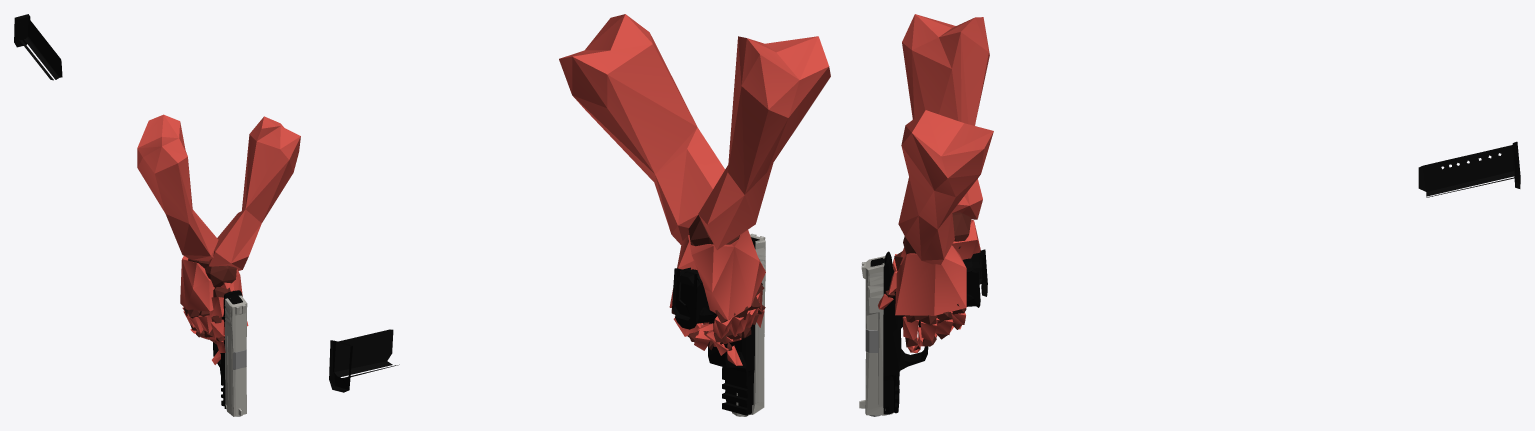
Rendered from M&P9reloadNormal1lowP_000148.obj.
3 views of the same model, side by side, from view 1: azimuth 30°, elevation 25°; view 2: azimuth 150°, elevation 25°; view 3: azimuth 270°, elevation 25° (orthographic). The views are drawn at different scales.
Visible parts, largest first — view 1: Beta_Surface.001_Beta_Surface.002, slide_平面.002, magazine_平面.003, Beta_Joints.001_Beta_Joints.002, triger_平面.001; view 2: Beta_Surface.001_Beta_Surface.002, triger_平面.001, magazine_平面.003, slide_平面.002, Beta_Joints.001_Beta_Joints.002, magazine.002_平面.005; view 3: Beta_Surface.001_Beta_Surface.002, triger_平面.001, magazine_平面.003, slide_平面.002, Beta_Joints.001_Beta_Joints.002.
Part boxes in pixels (x1=…): Beta_Surface.001_Beta_Surface.002: x1=137, y1=114, x2=300, y2=364; slide_平面.002: x1=224, y1=295, x2=247, y2=416; magazine_平面.003: x1=14, y1=14, x2=62, y2=80; Beta_Joints.001_Beta_Joints.002: x1=181, y1=258, x2=236, y2=353; triger_平面.001: x1=213, y1=290, x2=246, y2=416; Beta_Surface.001_Beta_Surface.002: x1=559, y1=14, x2=830, y2=365; triger_平面.001: x1=675, y1=237, x2=755, y2=415; magazine_平面.003: x1=329, y1=329, x2=399, y2=392; slide_平面.002: x1=732, y1=233, x2=765, y2=416; Beta_Joints.001_Beta_Joints.002: x1=671, y1=215, x2=765, y2=350; magazine.002_平面.005: x1=672, y1=267, x2=697, y2=320; Beta_Surface.001_Beta_Surface.002: x1=878, y1=14, x2=993, y2=352; triger_平面.001: x1=865, y1=251, x2=982, y2=416; magazine_平面.003: x1=1418, y1=141, x2=1520, y2=197; slide_平面.002: x1=859, y1=256, x2=893, y2=415; Beta_Joints.001_Beta_Joints.002: x1=885, y1=212, x2=971, y2=351.
Bounding box in the file's own units: 48.81 × 80.78 × 130.
